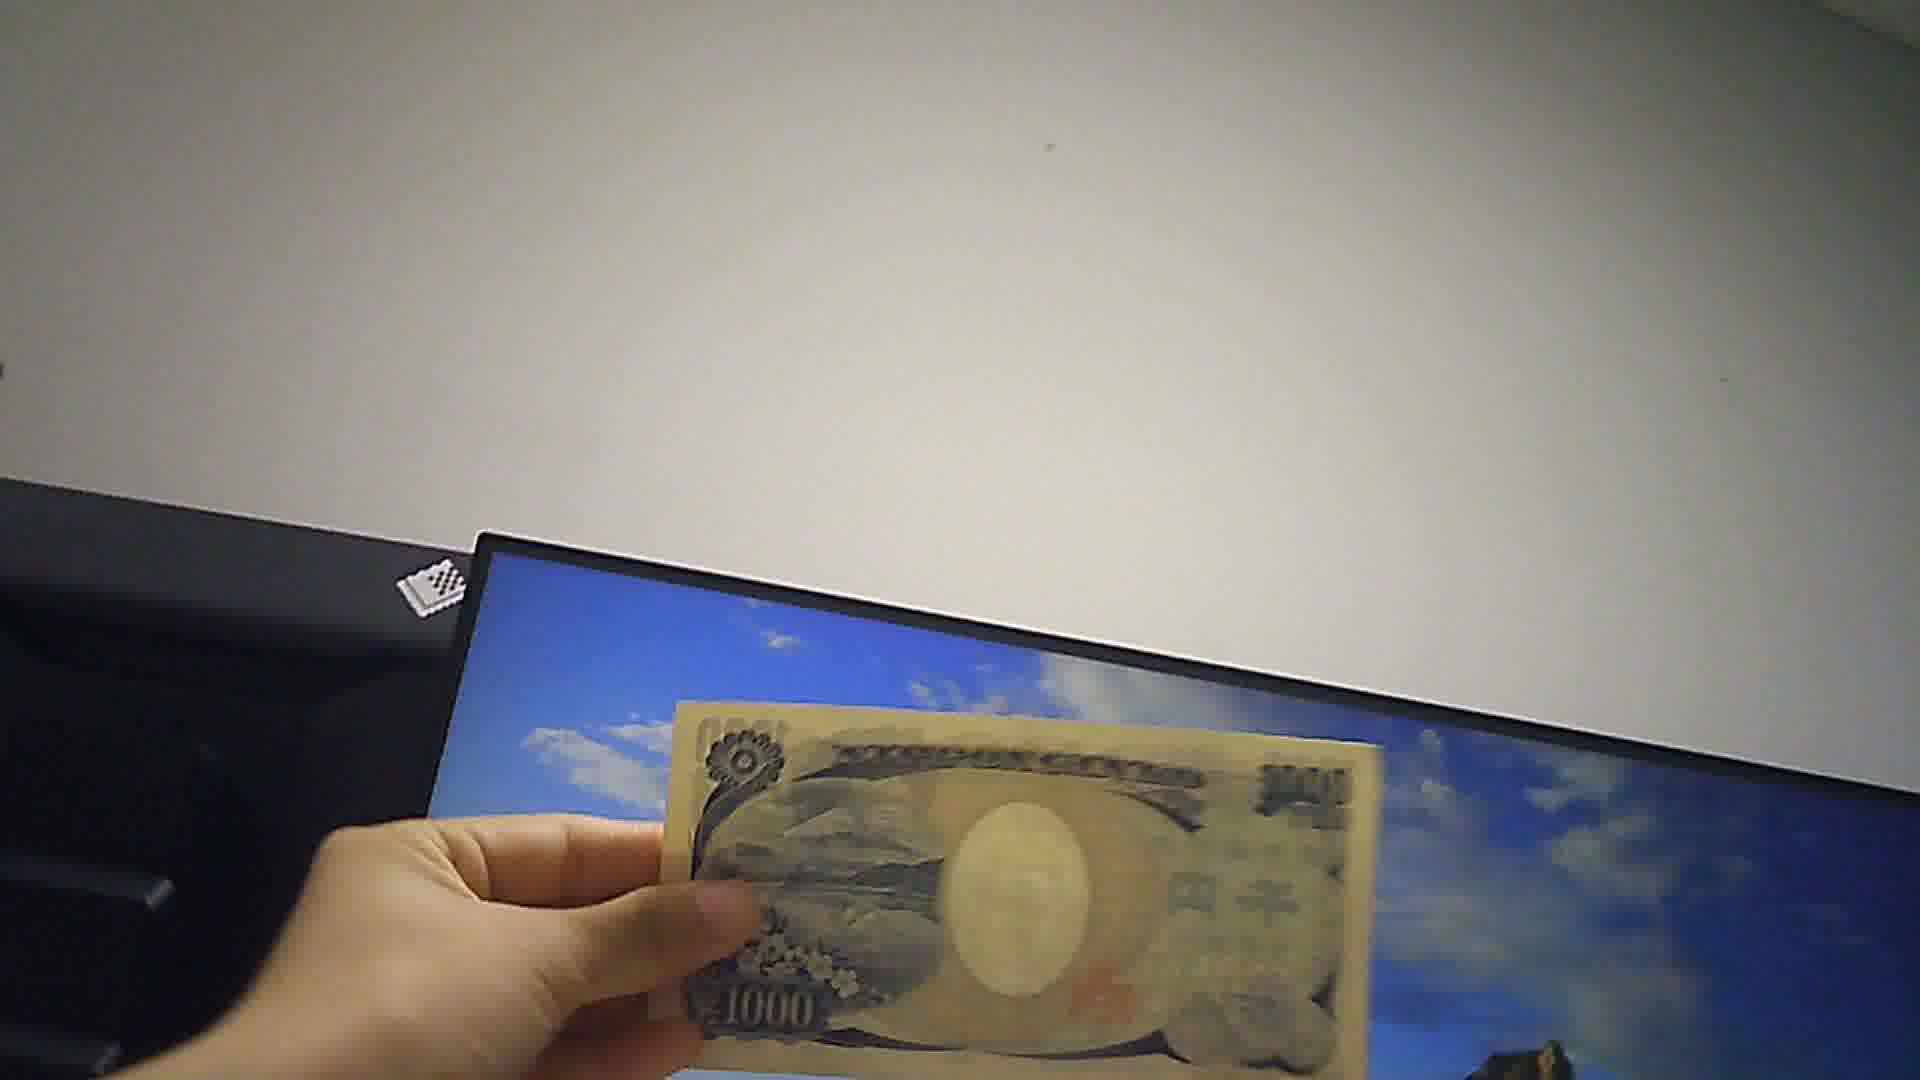1,000 Yen: (638, 688, 1371, 1079)
